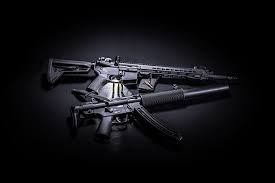gun: (65, 84, 230, 143), (44, 54, 240, 94)
